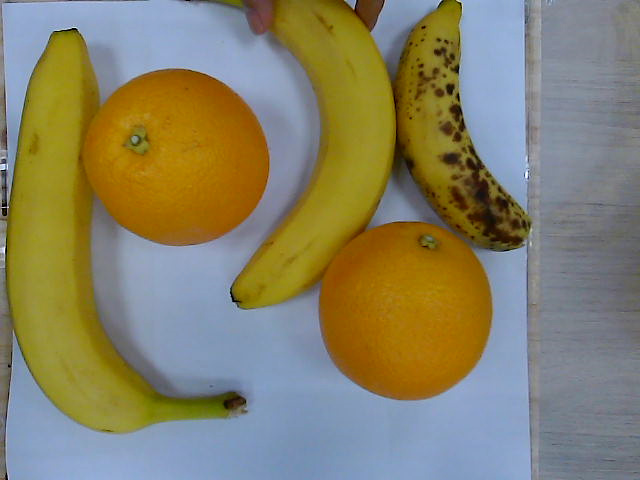fresh_banana: (7, 27, 160, 436), (231, 3, 394, 309)
fresh_orange: (78, 69, 271, 248), (317, 220, 494, 403)
rotten_banana: (395, 1, 535, 253)
